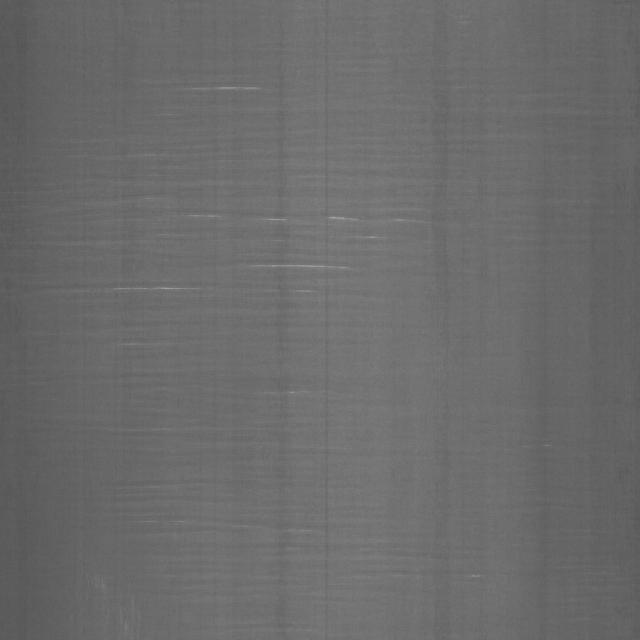punching_hole: (57, 28, 376, 496)
